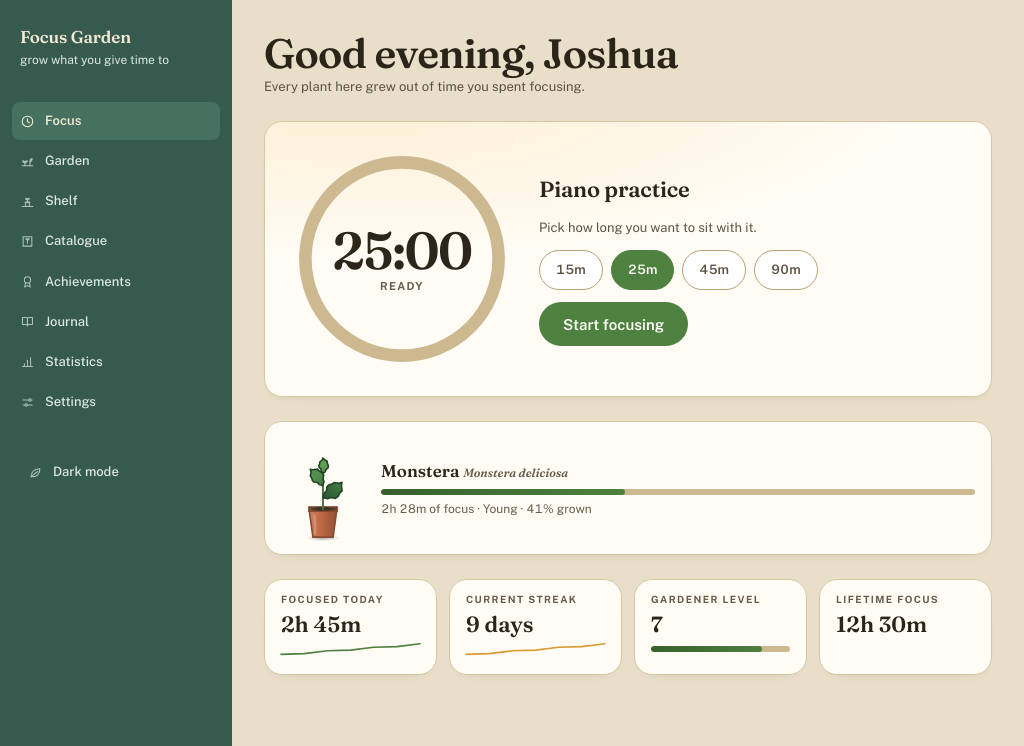
the focus screen reads the player's settings › starts at the configured focus length and offers it as a choice
Expected: the button "Start focusing" is shown, [539,302,688,346]
Step 1. Click the button "Settings" → (116, 402), box [12,383,220,421]
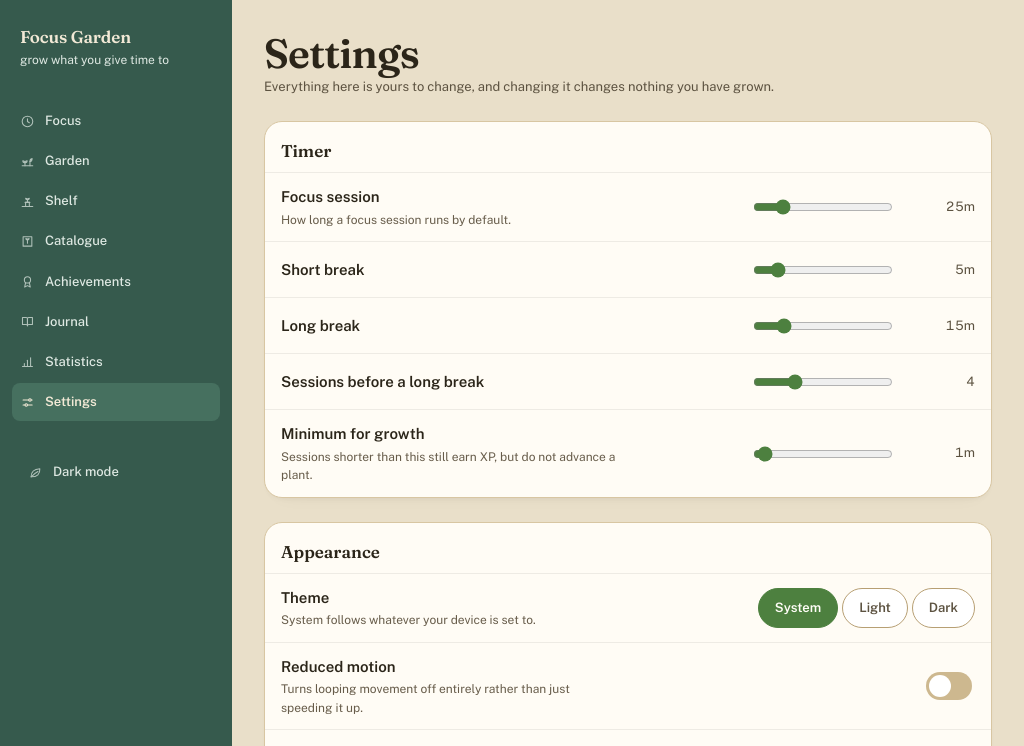
Step 2. Set the slider named "Focus session" to "30" → (788, 207), box [753,199,893,215]
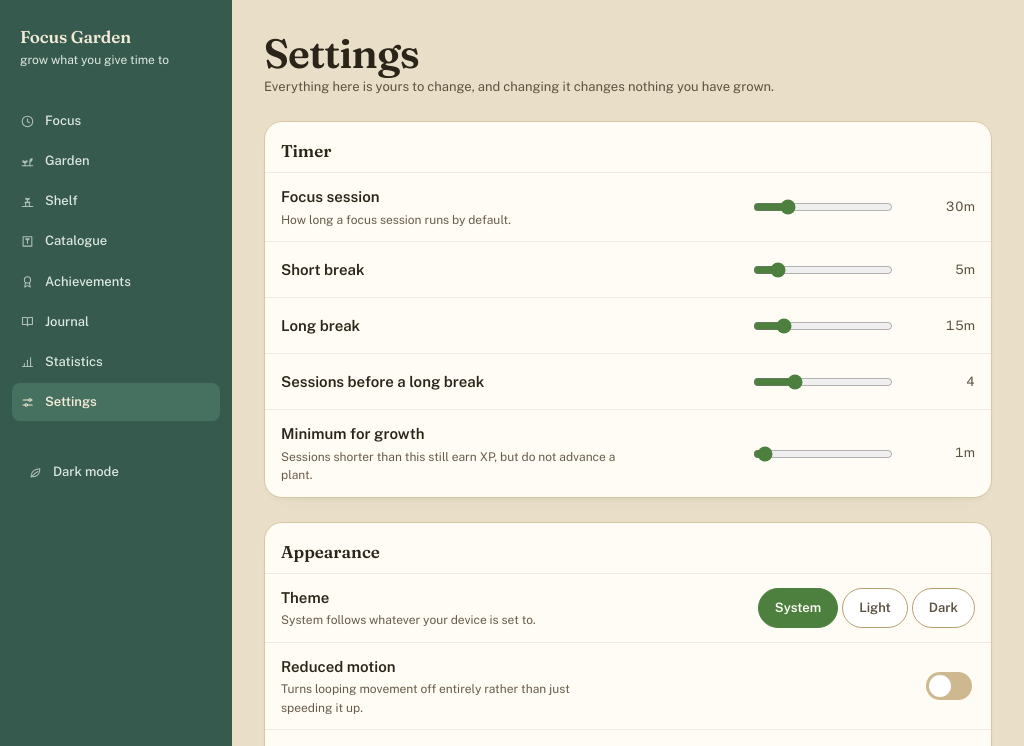
Step 3. Click the button "Focus" → (116, 121), box [12,102,220,140]
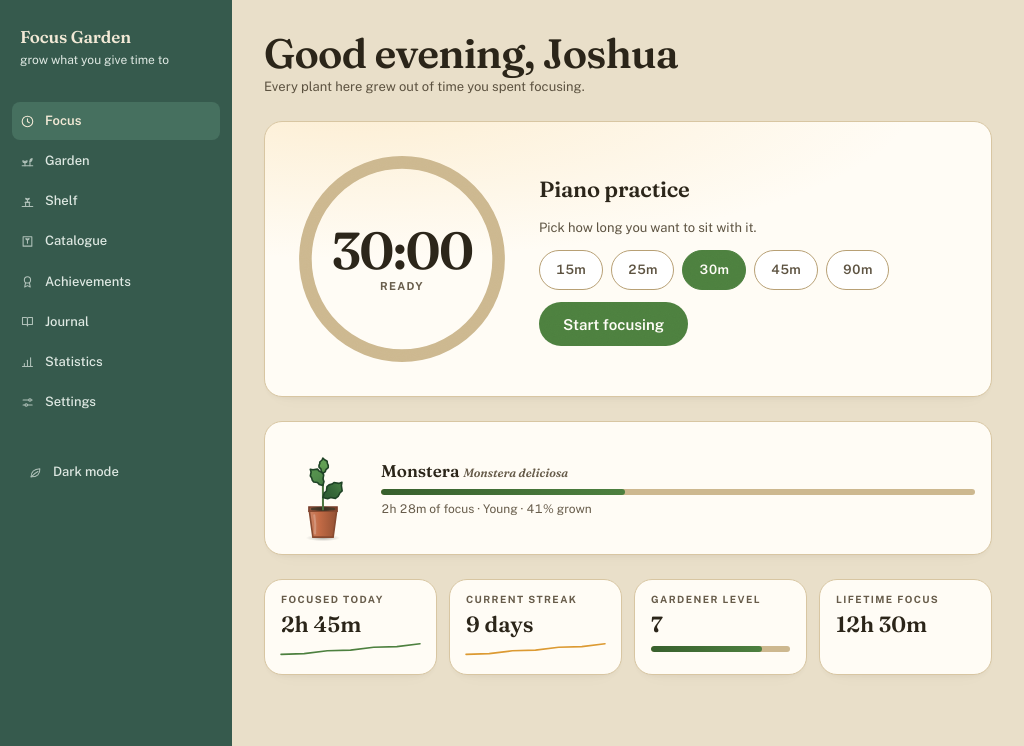
Result: the text "30:00" is shown at [331,224,472,276]
